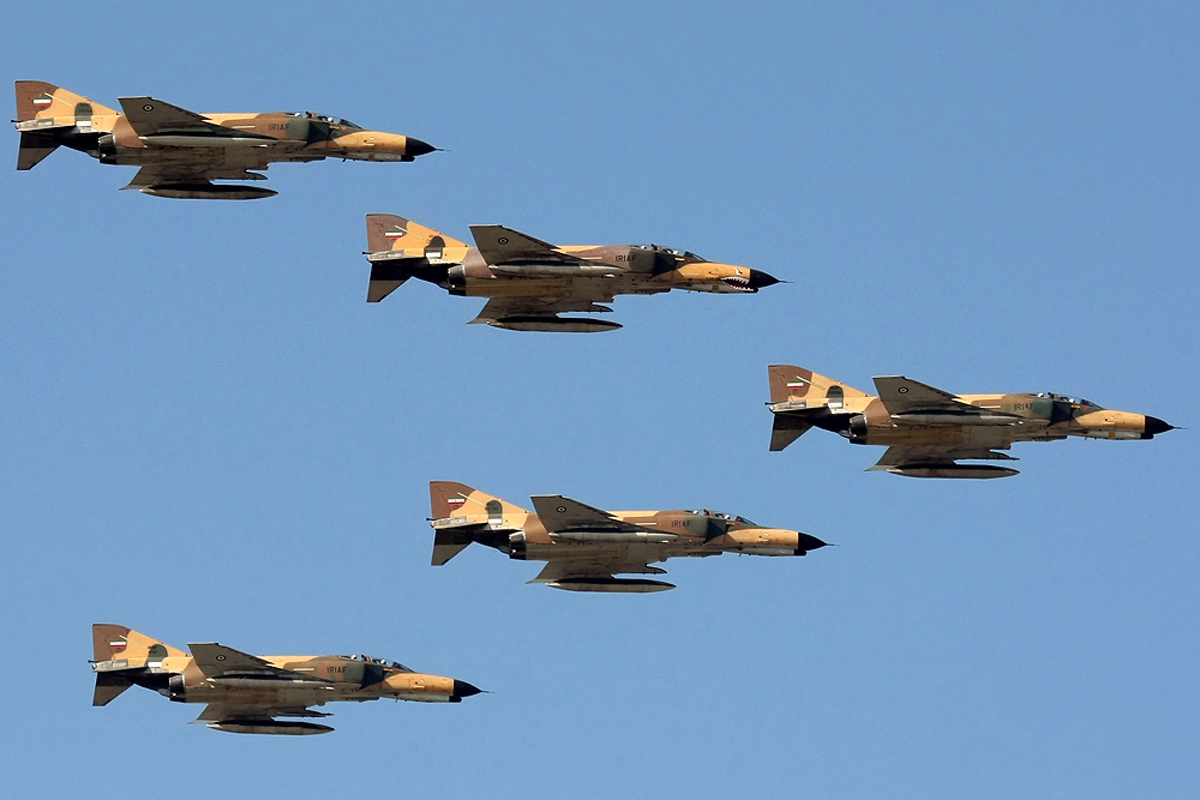F4: (9, 79, 451, 201), (361, 213, 795, 333), (763, 364, 1189, 480), (425, 480, 842, 593), (87, 623, 497, 735)
